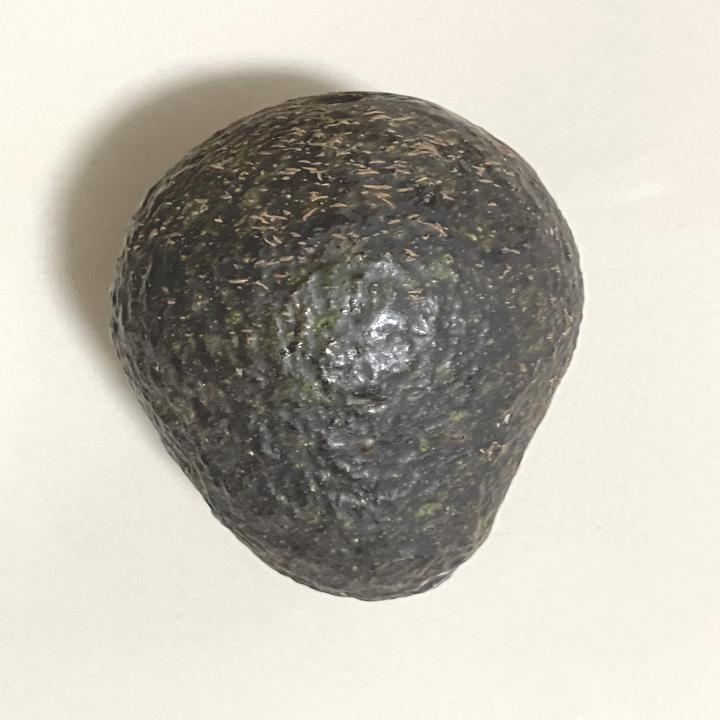Level1: (92, 77, 610, 612)
